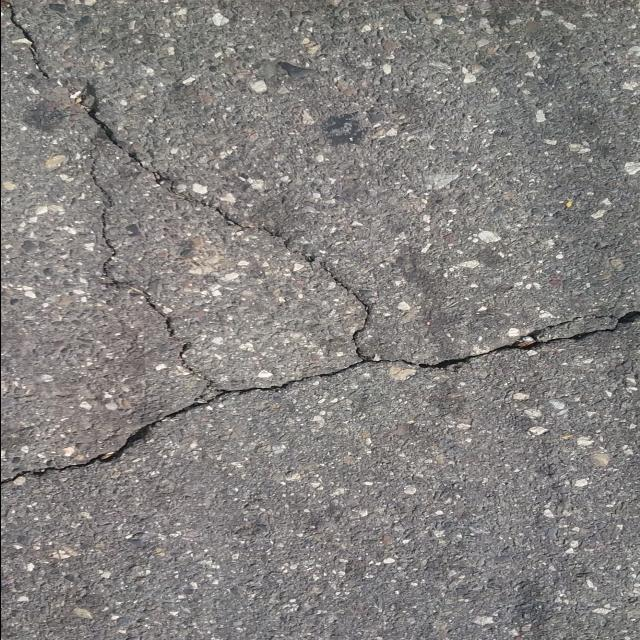Crack: (0, 0, 640, 486)
